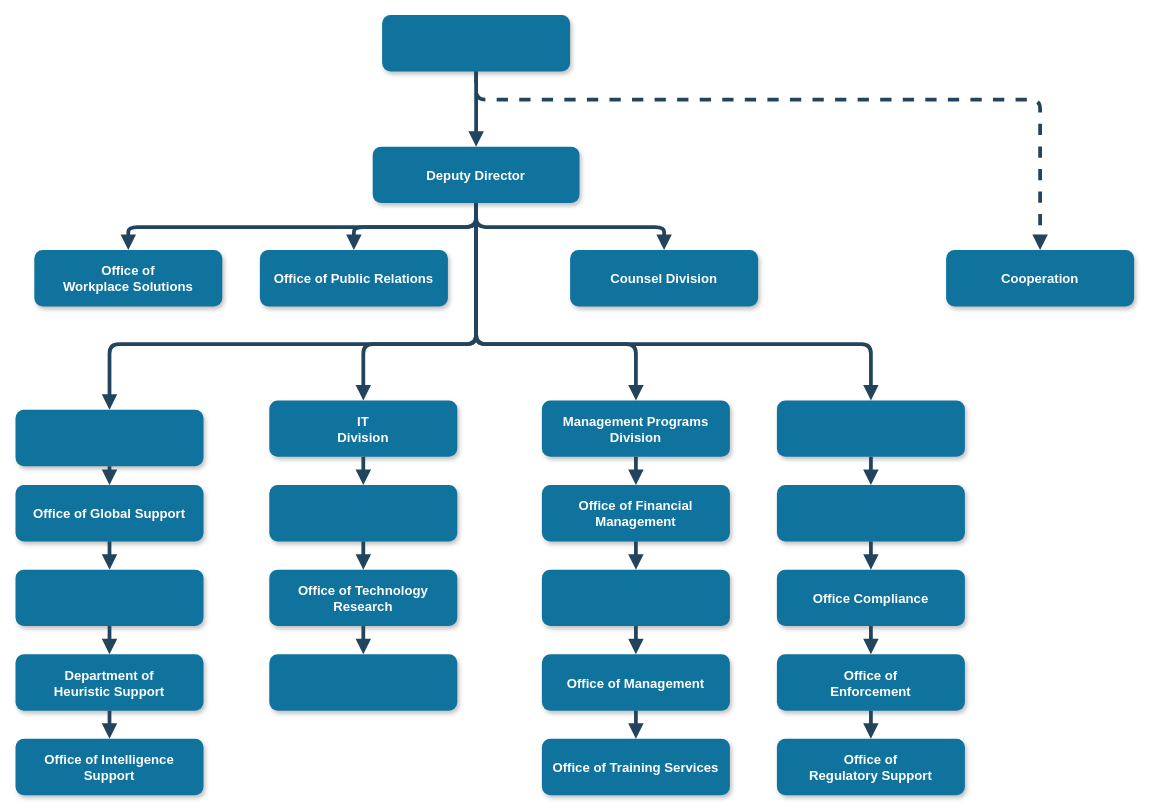
The diagram is 1150 pixels wide and 810 high, and some of its shapes have lost their labels. Here are the shapes that lost their labels. From the top down, the centre of each, then its label:
At point (476, 44): "CEOx".
At point (110, 439): "Analysis Division".
At point (871, 429): "Regulatory and Enforcement Division".
At point (363, 514): "Database Administration".
At point (871, 514): "Office of Regulatory Policy".
At point (110, 598): "Office of Backtrack Analysis".
At point (636, 598): "Office of Human Resources".
At point (363, 683): "Office of Data Services".
